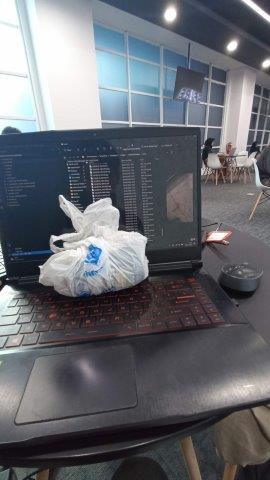plastik: (40, 196, 149, 296)
